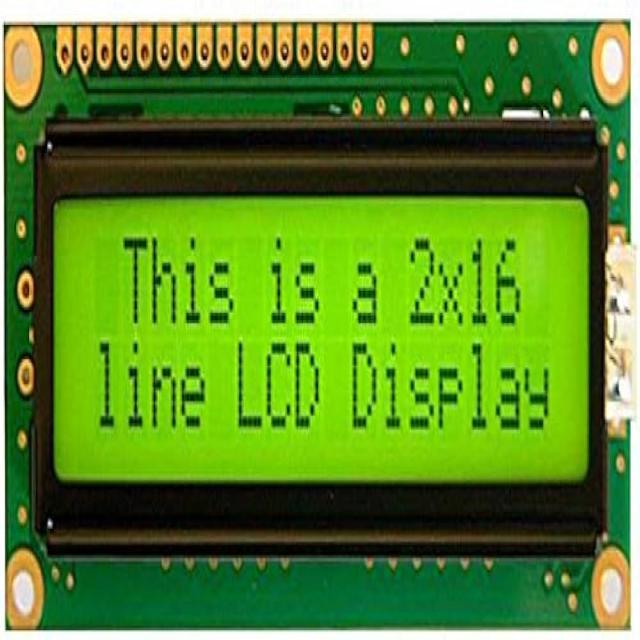Display: (0, 8, 635, 636)
